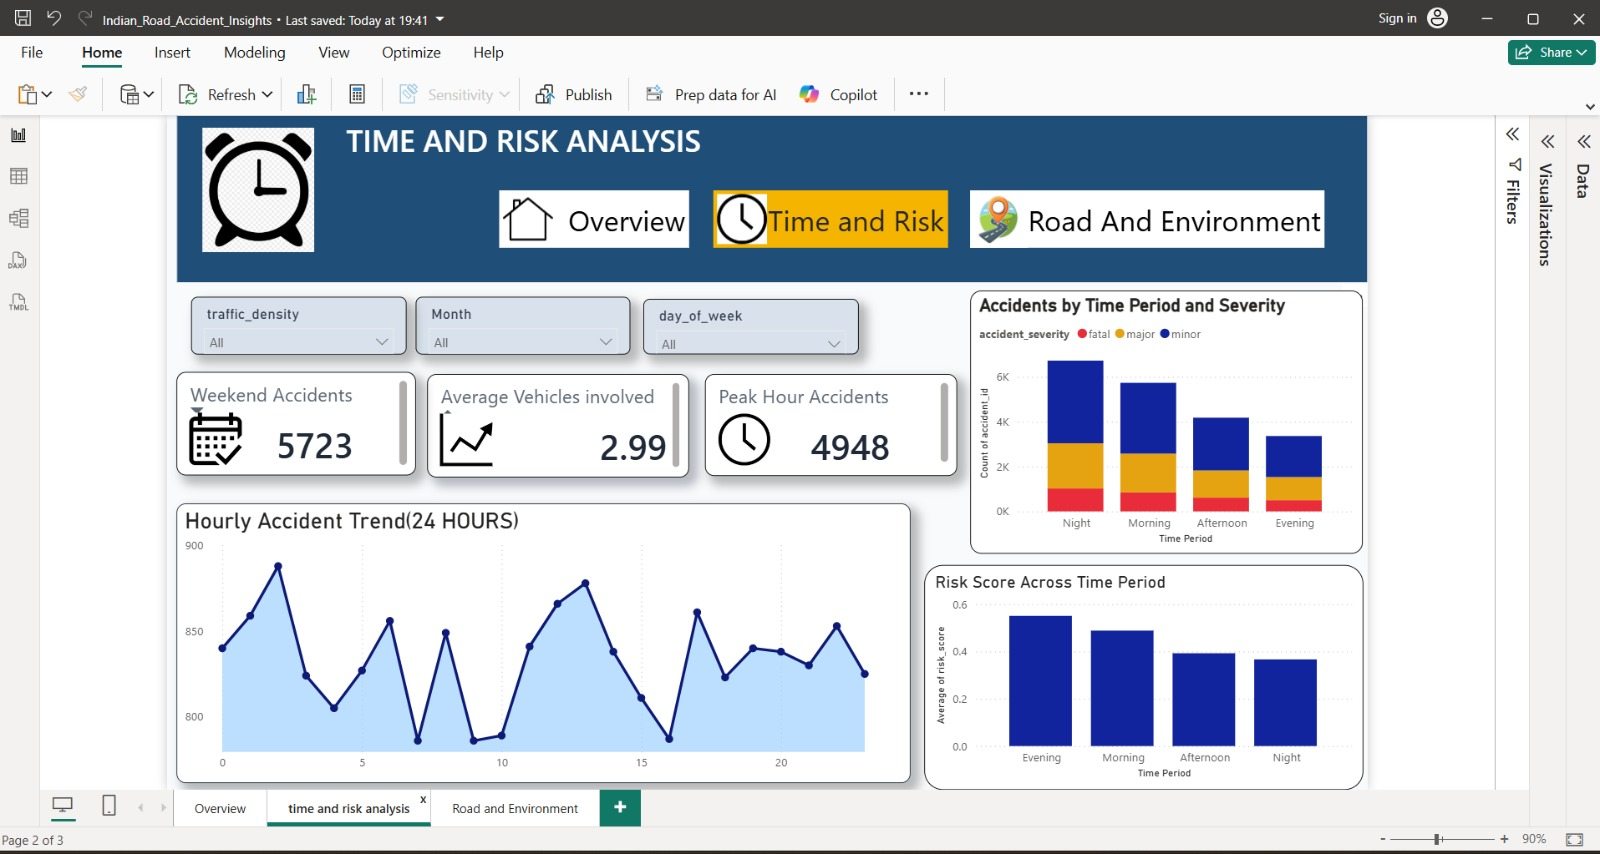

Layout of this report page (visuals, bound fields, positions):
{"tool":"powerbi","page":{"name":"time and risk analysis","canvas":[1280,720],"ordinal":1},"visuals":[{"type":"textbox","box":[10.2,0,1269.8,178.7],"z":0},{"type":"tableEx","fields":{"Values":["cleaned_indian_roads_dataset.Weekend Accidents"]},"box":[10.2,274,255.3,110.6],"z":0,"group":"g2"},{"type":"tableEx","fields":{"Values":["cleaned_indian_roads_dataset.Peak Hour Accidents"]},"box":[573.6,275.7,268.9,108.9],"z":0,"group":"g1"},{"type":"tableEx","fields":{"Values":["cleaned_indian_roads_dataset.Avg Vehicles"]},"box":[277.2,275.8,279.1,110.6],"z":1000},{"type":"image","box":[0,13.6,194,132.8],"z":2000},{"type":"actionButton","box":[582.1,80,250.2,61.3],"z":3000},{"type":"actionButton","box":[354,80,202.6,61.3],"z":4000},{"type":"actionButton","box":[856.2,80,377.9,61.3],"z":5000},{"type":"slicer","fields":{"Values":["cleaned_indian_roads_dataset.date.Variation.Date Hierarchy.Month"]},"box":[264.8,193.5,229.2,61.7],"z":6000},{"type":"slicer","fields":{"Values":["cleaned_indian_roads_dataset.traffic_density"]},"box":[25.5,194,229.8,61.3],"z":7000},{"type":"slicer","fields":{"Values":["cleaned_indian_roads_dataset.day_of_week"]},"box":[507.2,195.7,229.8,59.6],"z":8000},{"type":"group","id":"g1","title":"Group 1","box":[573.6,275.7,268.9,108.9],"z":9000},{"type":"group","id":"g2","title":"Group 1","box":[10.2,274,255.3,110.6],"z":10000},{"type":"areaChart","title":"Hourly Accident Trend(24 HOURS)","fields":{"Category":["cleaned_indian_roads_dataset.hour"],"Y":["CountNonNull(cleaned_indian_roads_dataset.accident_id)"]},"box":[10,414.1,782.6,298.3],"z":11000},{"type":"clusteredColumnChart","title":"Risk Score Across Time Period","fields":{"Category":["cleaned_indian_roads_dataset.Time Period"],"Y":["Avg(cleaned_indian_roads_dataset.risk_score)"]},"box":[806.8,480,468.1,240],"z":12000},{"type":"columnChart","title":"Accidents by Time Period and Severity","fields":{"Category":["cleaned_indian_roads_dataset.Time Period"],"Y":["CountNonNull(cleaned_indian_roads_dataset.accident_id)"],"Series":["cleaned_indian_roads_dataset.accident_severity"]},"box":[856.2,187.2,418.7,280.9],"z":13000},{"type":"image","box":[9.6,317,83.7,56.3],"z":14000},{"type":"image","box":[277.2,318.4,83.7,56.3],"z":15000},{"type":"image","box":[573.6,318.4,83.7,54.9],"z":16000}]}

Visuals, with their boxes on the page's 1280x720 design canvas (x1, y1, x2, y2). These are canvas units, not pixel positions in the 1600x854 screenshot, which may show the page scaled, cropped or inside an application window:
textbox: 10, 0, 1280, 179
tableEx - cleaned_indian_roads_dataset.Weekend Accidents: 10, 274, 266, 385
tableEx - cleaned_indian_roads_dataset.Peak Hour Accidents: 574, 276, 842, 385
tableEx - cleaned_indian_roads_dataset.Avg Vehicles: 277, 276, 556, 386
image: 0, 14, 194, 146
actionButton: 582, 80, 832, 141
actionButton: 354, 80, 557, 141
actionButton: 856, 80, 1234, 141
slicer - cleaned_indian_roads_dataset.date.Variation.Date Hierarchy.Month: 265, 194, 494, 255
slicer - cleaned_indian_roads_dataset.traffic_density: 26, 194, 255, 255
slicer - cleaned_indian_roads_dataset.day_of_week: 507, 196, 737, 255
"Group 1" group: 574, 276, 842, 385
"Group 1" group: 10, 274, 266, 385
"Hourly Accident Trend(24 HOURS)" areaChart: 10, 414, 793, 712
"Risk Score Across Time Period" clusteredColumnChart: 807, 480, 1275, 720
"Accidents by Time Period and Severity" columnChart: 856, 187, 1275, 468
image: 10, 317, 93, 373
image: 277, 318, 361, 375
image: 574, 318, 657, 373
